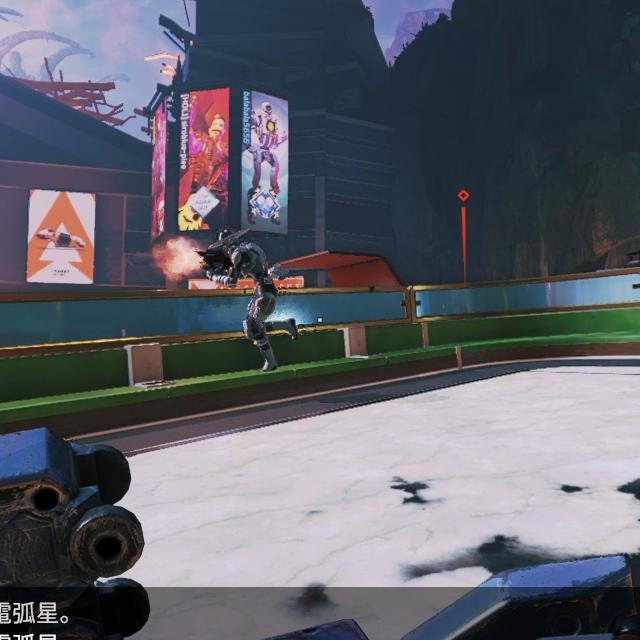avatar: (218, 230, 280, 371)
object: (151, 237, 204, 280)
